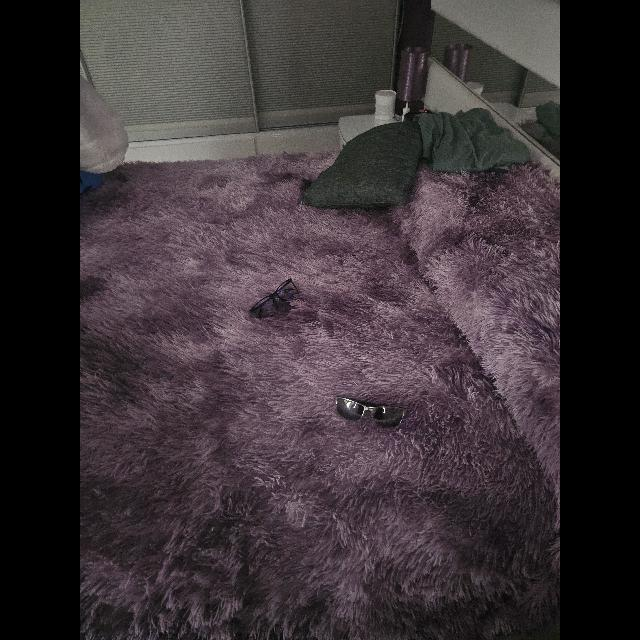Sunglasses: (335, 397, 405, 427)
glasses: (250, 278, 298, 318)
